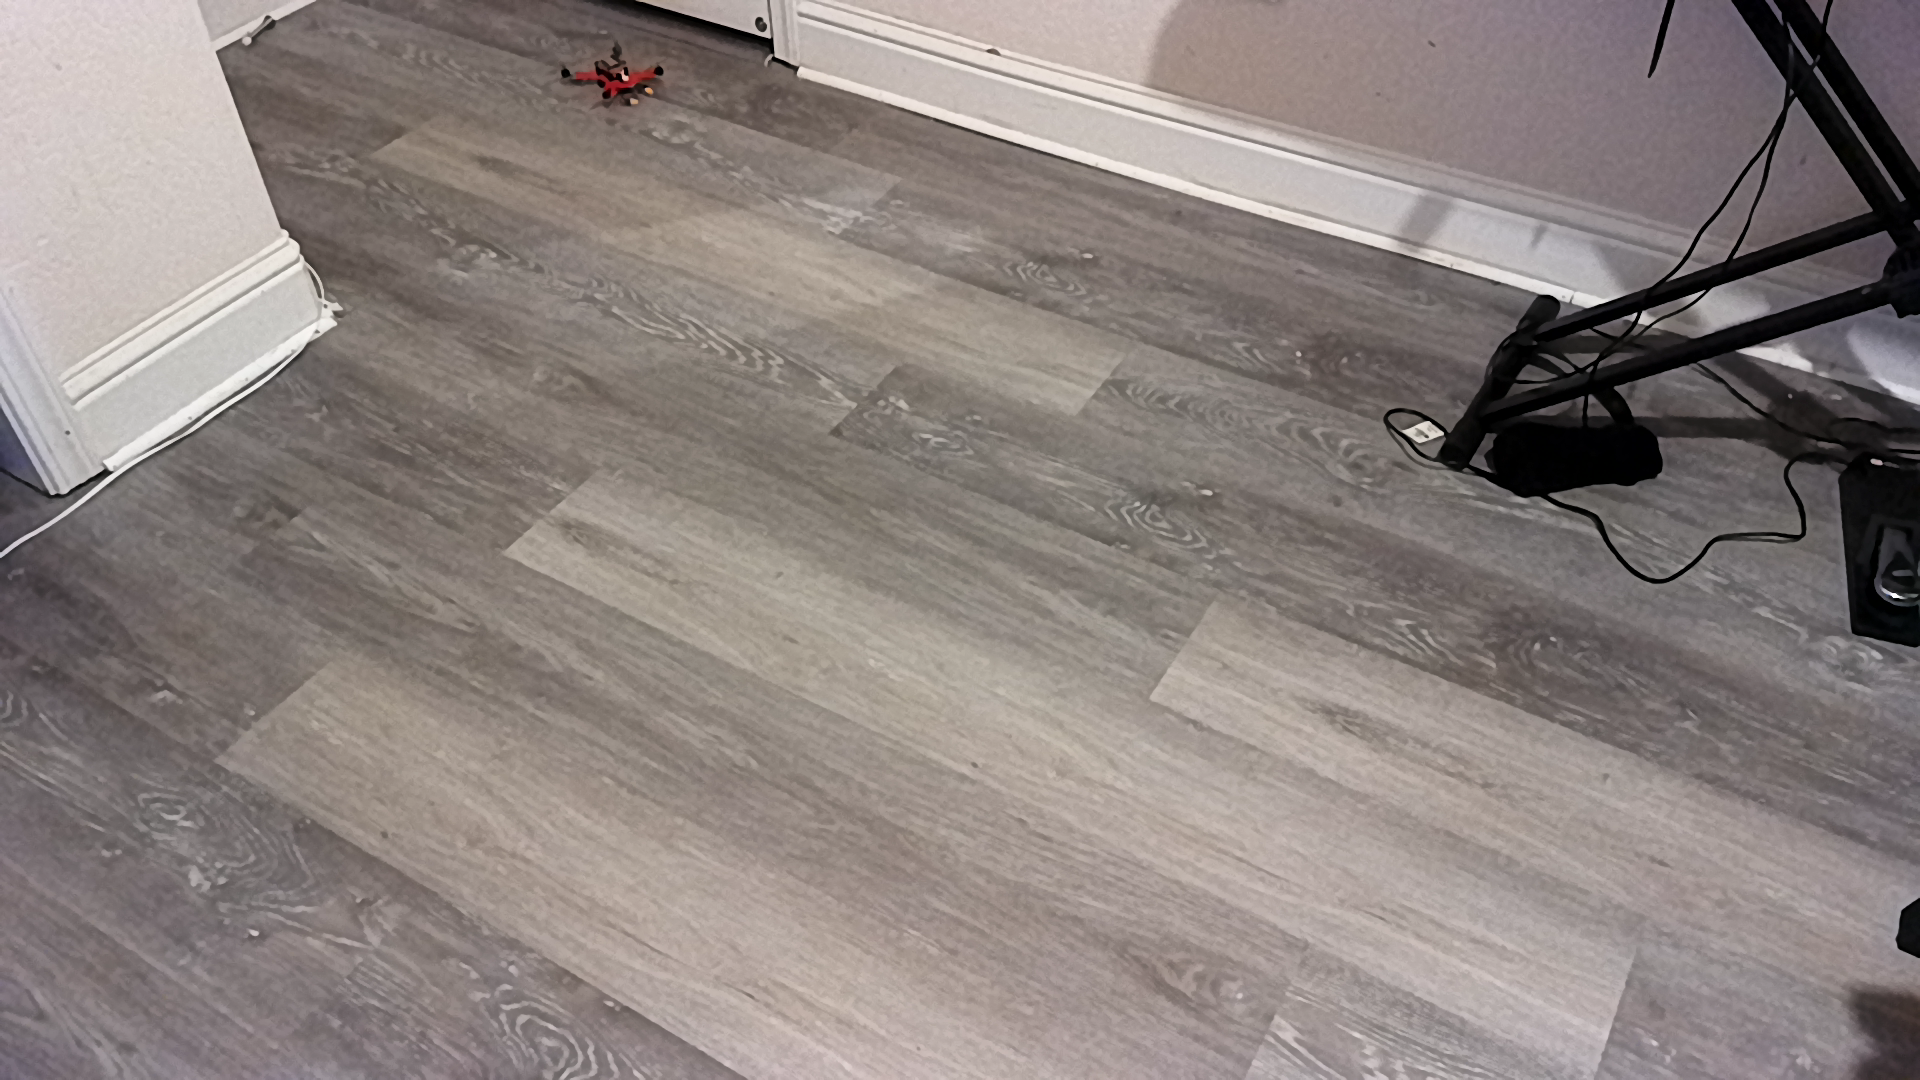drone: (535, 40, 700, 125)
